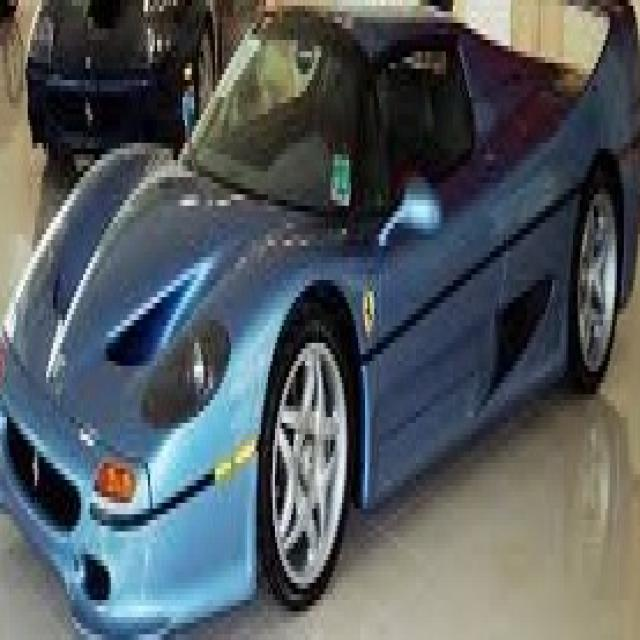blue: (2, 28, 639, 640)
